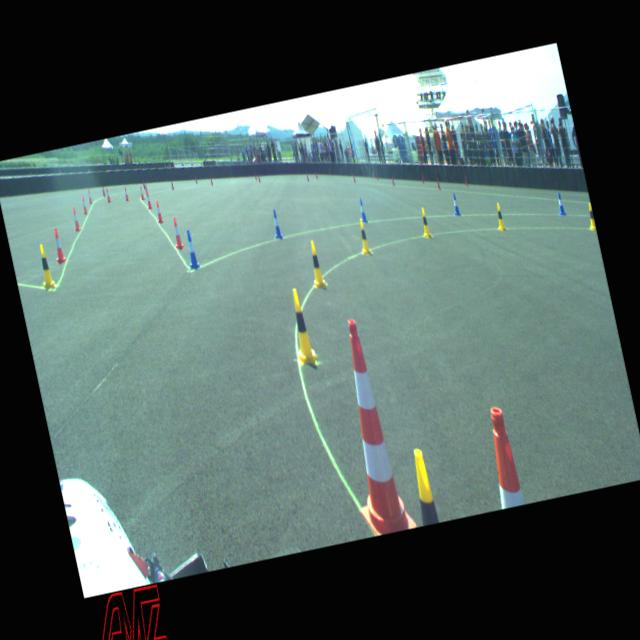blue_cone: (183, 228, 199, 266), (270, 208, 282, 238), (554, 192, 566, 215), (450, 192, 460, 216), (356, 198, 366, 222)
large_orange_cone: (321, 314, 416, 538), (480, 406, 524, 508)
orange_cone: (50, 228, 66, 263), (170, 216, 183, 249), (70, 206, 81, 230), (154, 200, 164, 222), (80, 195, 88, 214), (144, 190, 152, 208), (86, 188, 92, 204), (138, 185, 144, 200), (123, 186, 129, 200), (105, 188, 111, 202)
yellow_cone: (284, 286, 318, 368), (406, 447, 438, 525), (305, 238, 327, 288), (34, 242, 55, 288), (356, 218, 371, 252), (418, 207, 432, 238), (494, 202, 506, 230), (585, 202, 596, 230)
